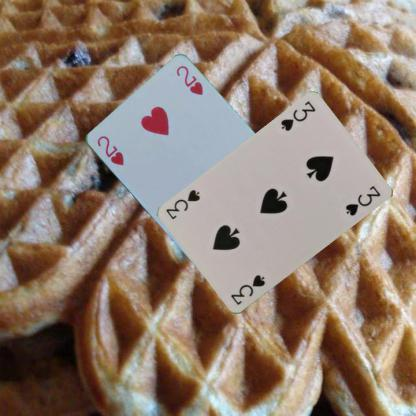2h: (94, 133, 124, 167)
3s: (278, 98, 317, 134), (229, 272, 266, 307)
